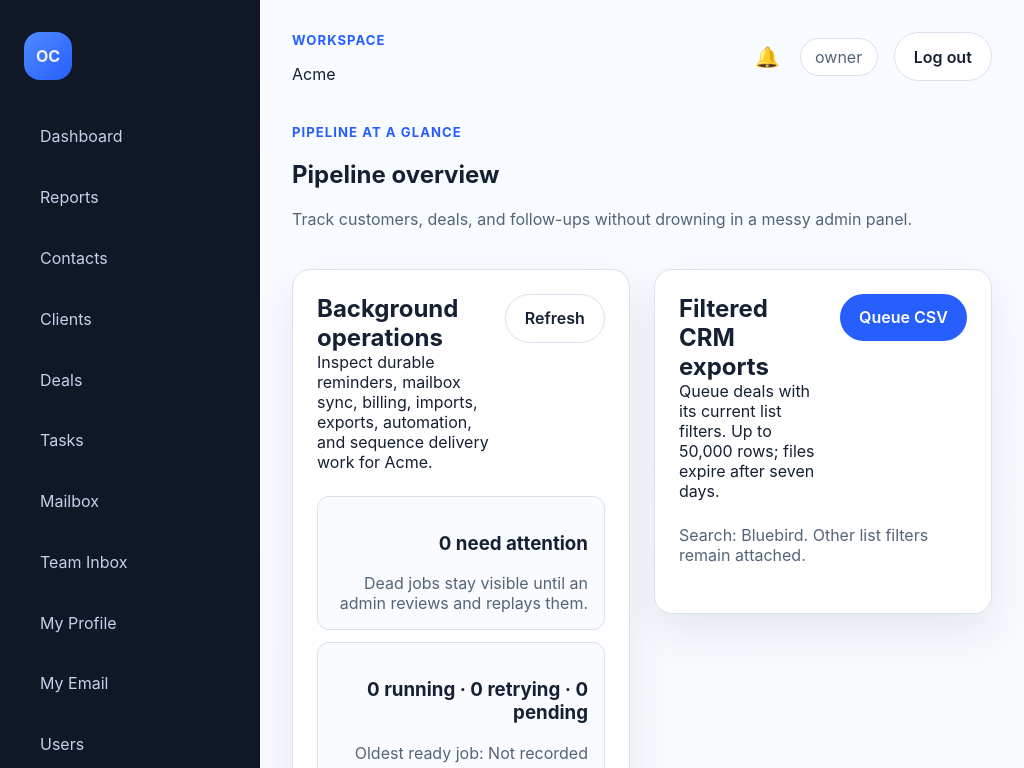
Test: settings operations route › queues exact CRM list filters and exposes durable artifact progress
Expected: the text "Search: Bluebird. Other list filters remain attached." is shown, [679,525,967,565]
What coordinates should you click on to do the following:
click the button "Queue CSV"
I would click on:
 (903, 317)
Its box is [840,294,967,341].
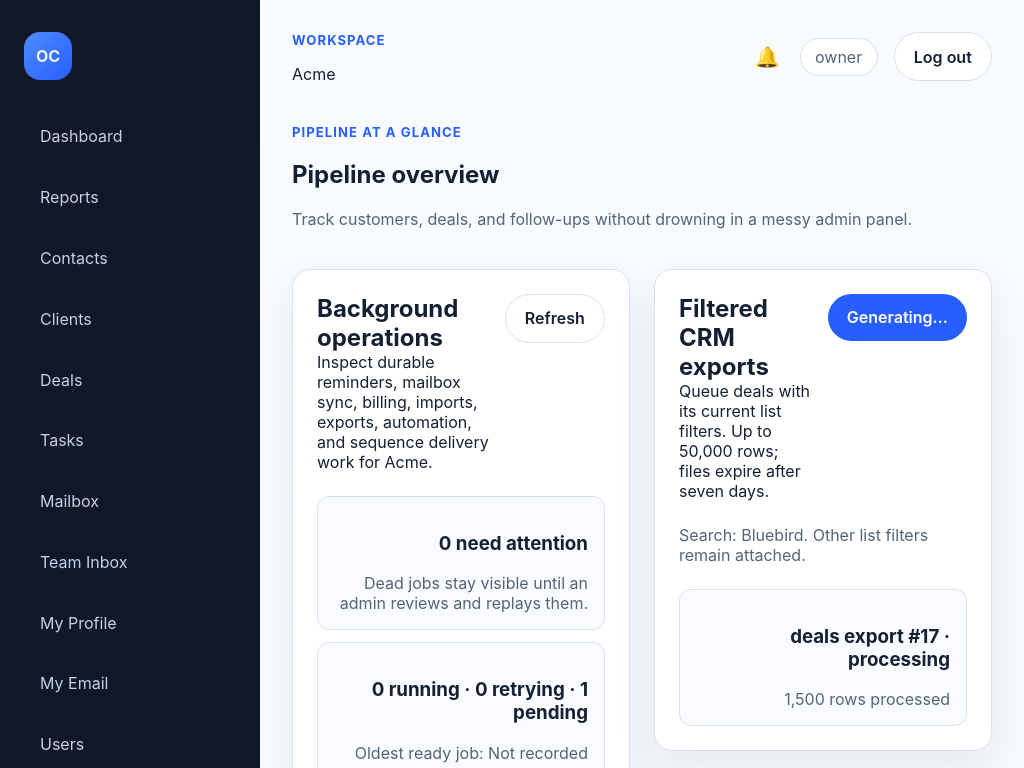
Now the text "1,500 rows processed" is shown, box [784,689,950,709]
